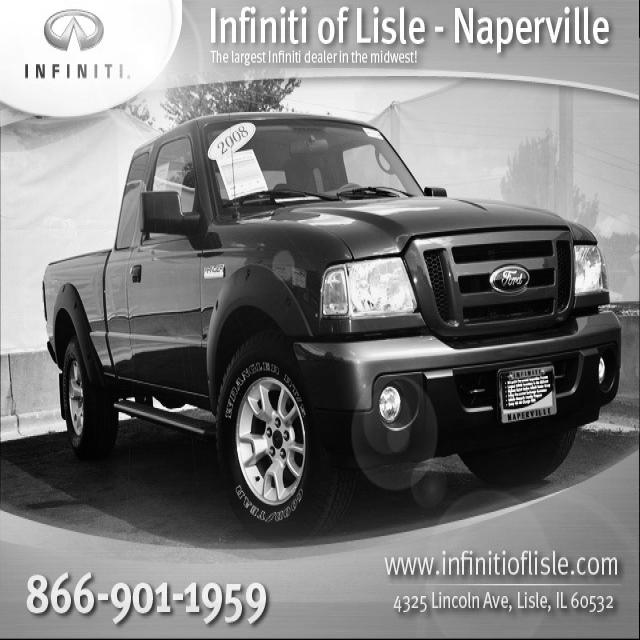car: (41, 110, 621, 538)
